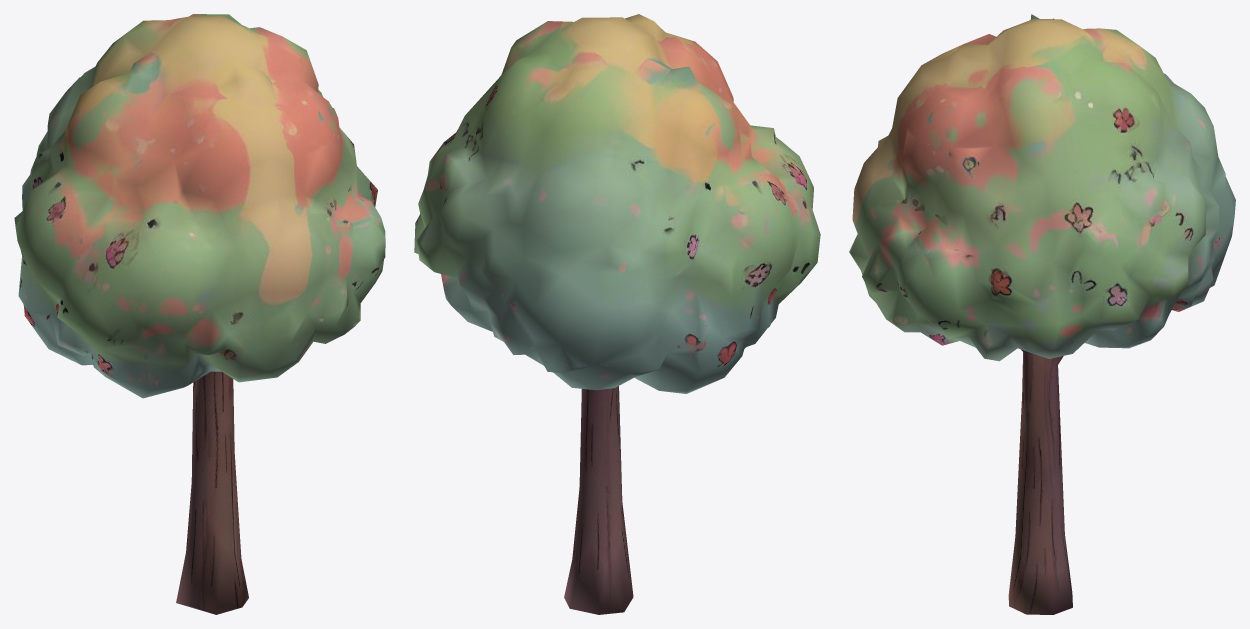
File: demo_tree_chibi.glb
The picture shows the model from 3 angles, left to right: view 1: azimuth 30°, elevation 25°; view 2: azimuth 150°, elevation 25°; view 3: azimuth 270°, elevation 25°; orthographic projection.
Visible parts, largest first — view 1: tripo_node_e37c6db7-9f25-4c85-b29e-4eb5ad6c95a0.001; view 2: tripo_node_e37c6db7-9f25-4c85-b29e-4eb5ad6c95a0.001; view 3: tripo_node_e37c6db7-9f25-4c85-b29e-4eb5ad6c95a0.001.
Part boxes in pixels (x1,y1,x2,y2): tripo_node_e37c6db7-9f25-4c85-b29e-4eb5ad6c95a0.001: (14,14,385,614); tripo_node_e37c6db7-9f25-4c85-b29e-4eb5ad6c95a0.001: (414,14,820,614); tripo_node_e37c6db7-9f25-4c85-b29e-4eb5ad6c95a0.001: (849,14,1235,614).
Size of the model in its own units: 0.6056 by 1 by 0.6104.
Materials: 1 (1 with a texture image).
